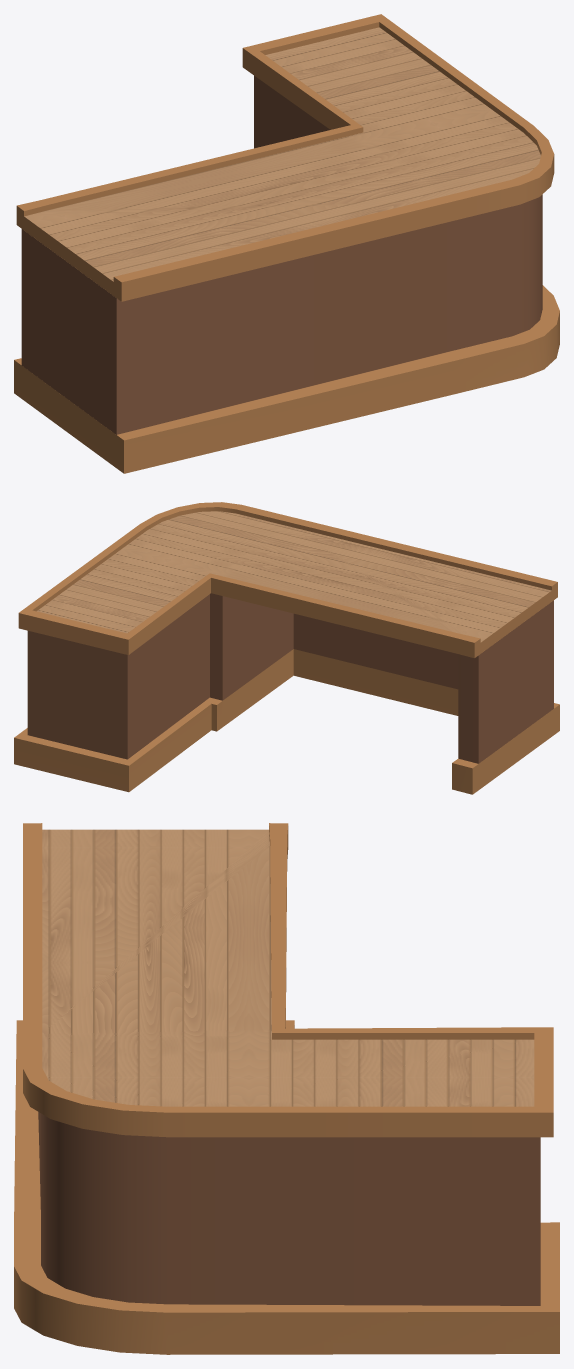
The model's file is desk_sushi.fbx.
3 renders of one model, top to bottom at view 1: azimuth 30°, elevation 25°; view 2: azimuth 150°, elevation 25°; view 3: azimuth 270°, elevation 25°, orthographic. The views are drawn at different scales.
Visible parts, largest first — view 1: Coffee_Patisserie.002; view 2: Coffee_Patisserie.002; view 3: Coffee_Patisserie.002.
Part boxes in pixels (x1,y1,x2,y2): Coffee_Patisserie.002: (14, 14, 559, 473); Coffee_Patisserie.002: (14, 502, 559, 794); Coffee_Patisserie.002: (14, 823, 559, 1354).
Size of the model in its own units: 413 by 158 by 326.
